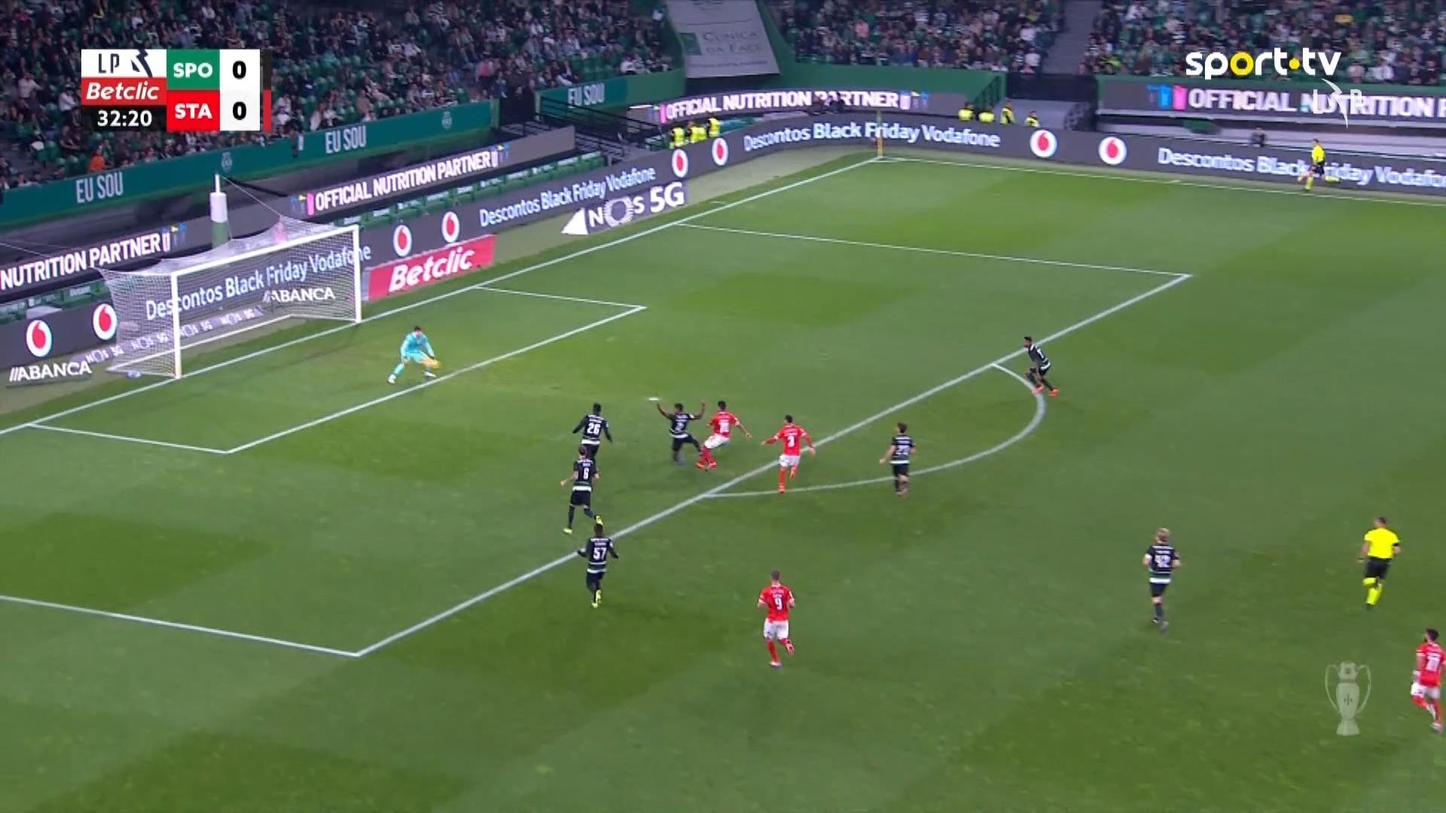ball: (429, 359, 441, 370)
goalkeeper: (386, 324, 441, 384)
player: (761, 413, 816, 494), (1142, 526, 1181, 632), (756, 568, 796, 668), (696, 399, 752, 470), (575, 519, 619, 607), (559, 444, 601, 534), (652, 396, 706, 465), (1409, 626, 1444, 732), (571, 400, 613, 477), (878, 421, 917, 498), (1022, 335, 1059, 397)
referee: (1356, 514, 1401, 608), (1299, 137, 1326, 191)
